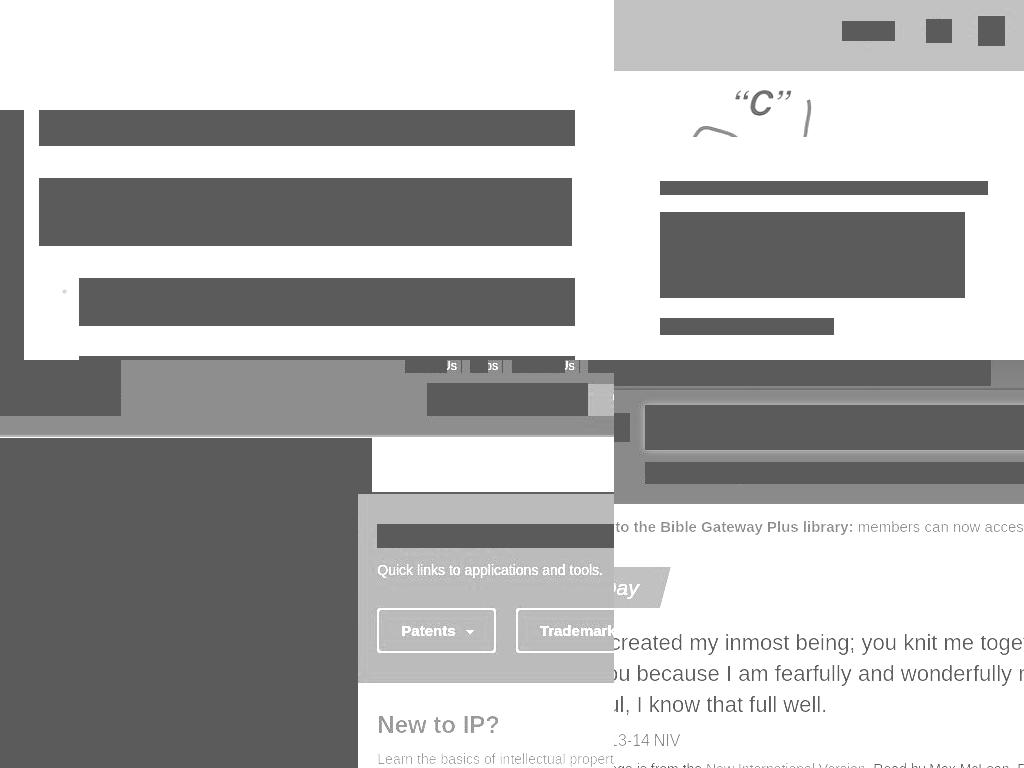button: (108, 438, 372, 494), (645, 462, 1024, 484), (0, 360, 121, 416), (0, 438, 108, 494), (377, 608, 496, 653), (515, 608, 614, 653), (631, 360, 751, 386), (751, 360, 871, 386), (871, 360, 991, 386), (978, 16, 1005, 46)
field: (645, 405, 1024, 450), (427, 383, 588, 416)
heading: (660, 212, 965, 298), (39, 110, 575, 146), (377, 524, 614, 548), (377, 713, 614, 737)
image: (0, 494, 358, 768)
link: (614, 518, 855, 535), (705, 761, 869, 768), (842, 21, 895, 41), (512, 360, 565, 373), (614, 732, 650, 749), (405, 360, 447, 373), (653, 732, 681, 749), (588, 360, 614, 373), (470, 360, 488, 373)
text: (614, 627, 1024, 720), (39, 178, 572, 246), (79, 278, 575, 326), (357, 560, 614, 596), (660, 181, 988, 195), (377, 749, 614, 768), (39, 178, 221, 198), (853, 518, 1024, 535), (660, 318, 807, 335), (220, 178, 325, 198), (645, 468, 738, 484), (539, 622, 614, 639), (401, 622, 465, 639), (869, 761, 1024, 768), (614, 761, 706, 768), (926, 19, 952, 43), (805, 318, 834, 335)
